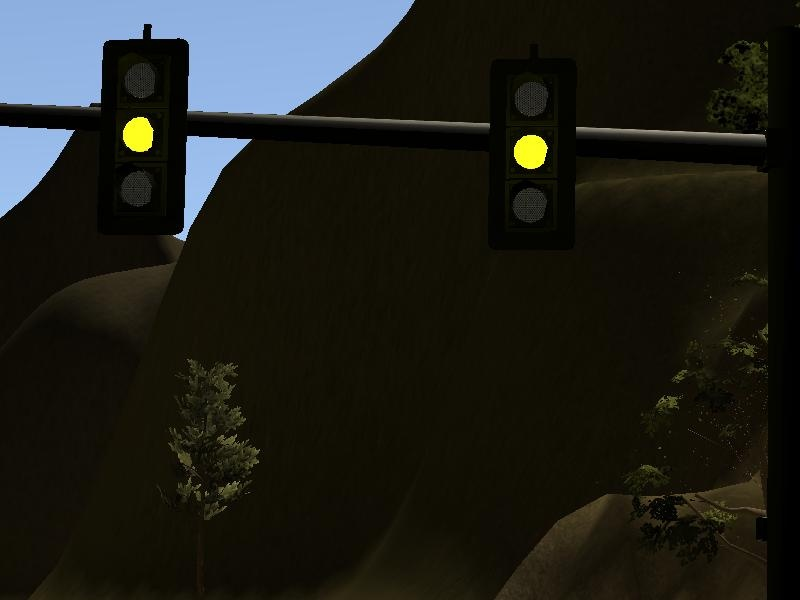yellow: (85, 16, 196, 243), (476, 32, 584, 263)
